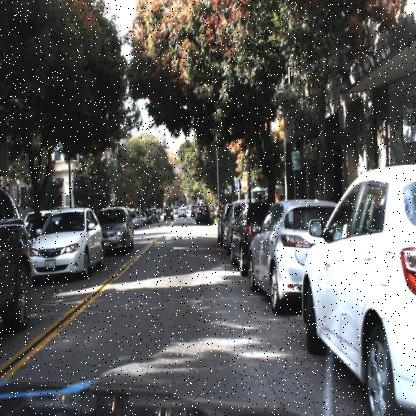car: (302, 165, 416, 415), (245, 198, 303, 318), (28, 204, 103, 286), (0, 183, 33, 334), (100, 204, 136, 258), (228, 195, 250, 276)
